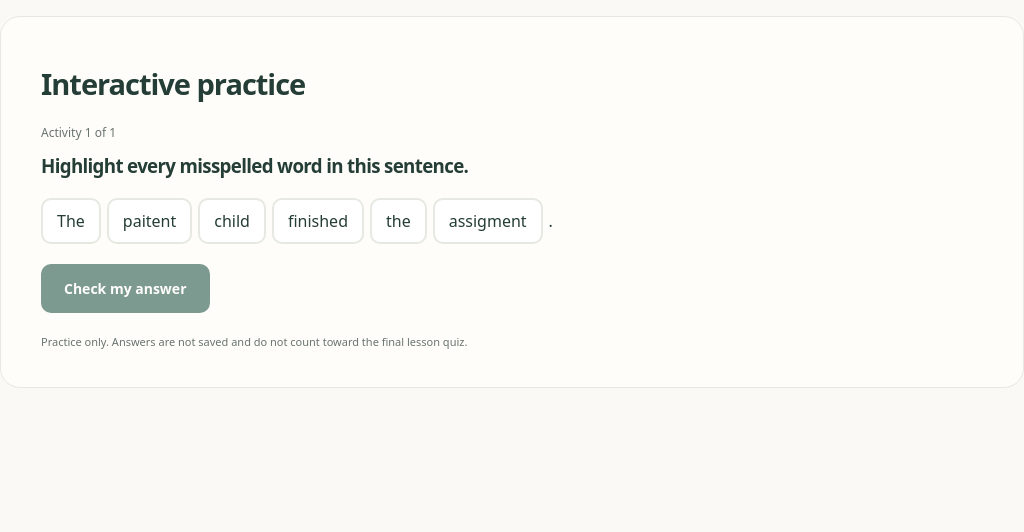
reusable interactive practice › highlights misspelled words, allows toggling, and explains wrong answers
The width and height of the screenshot is (1024, 532).
Step 1. Click the button "The" → x=71, y=221, box [41,198,101,244]
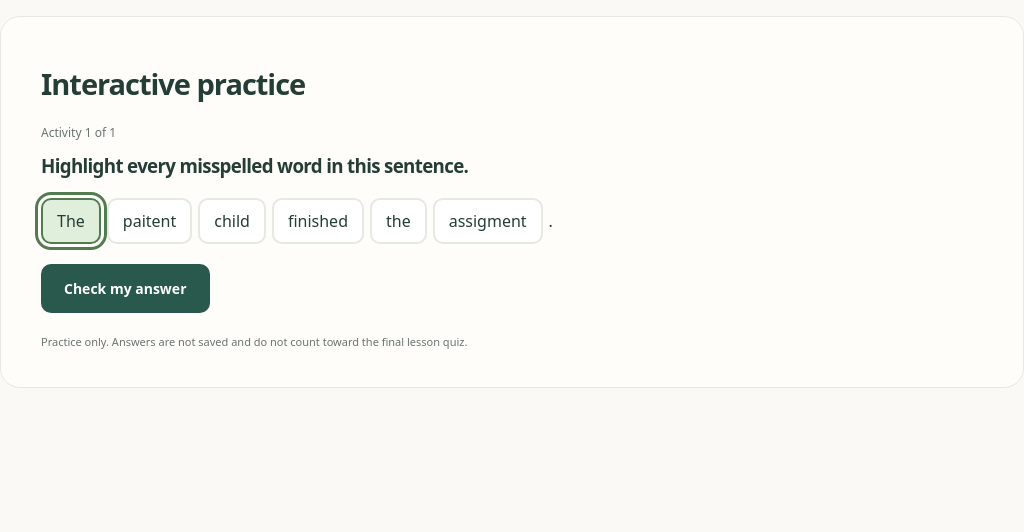
Step 2. Click the button "The" → x=71, y=221, box [41,198,101,244]
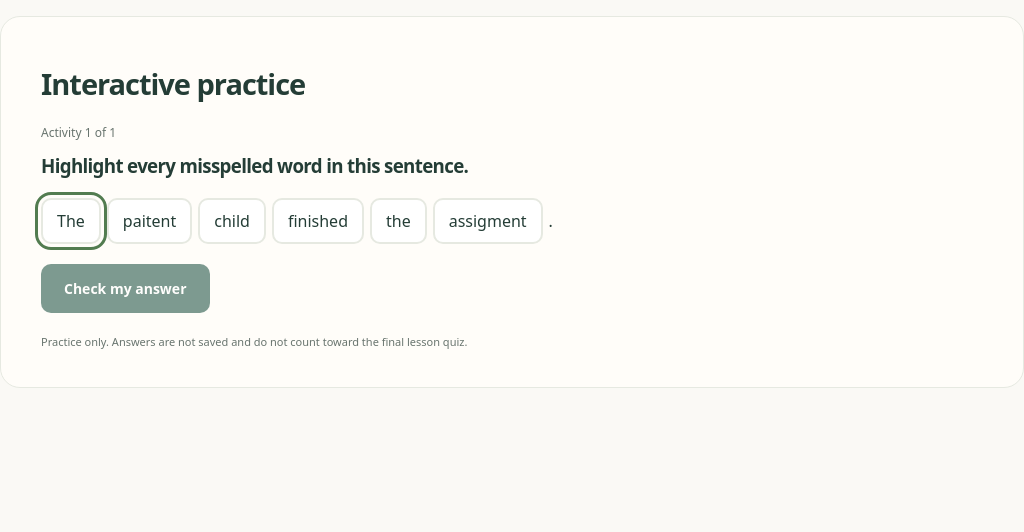
Expected: the button "The" is not pressed, [41,198,101,244]
Step 3. Click the button "paitent" → x=150, y=221, box [107,198,192,244]
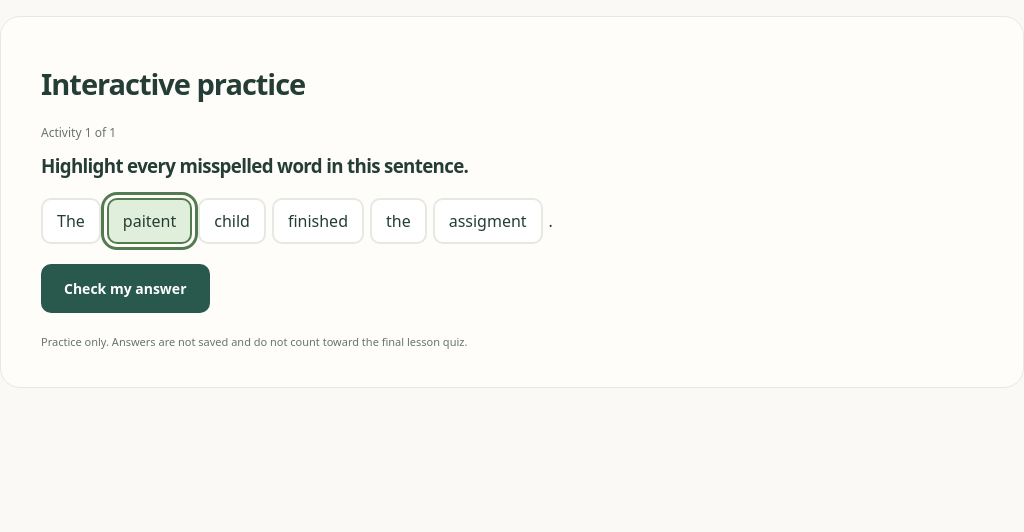
Step 4. Click the button "Check my answer" → x=125, y=289, box [41,264,210,313]
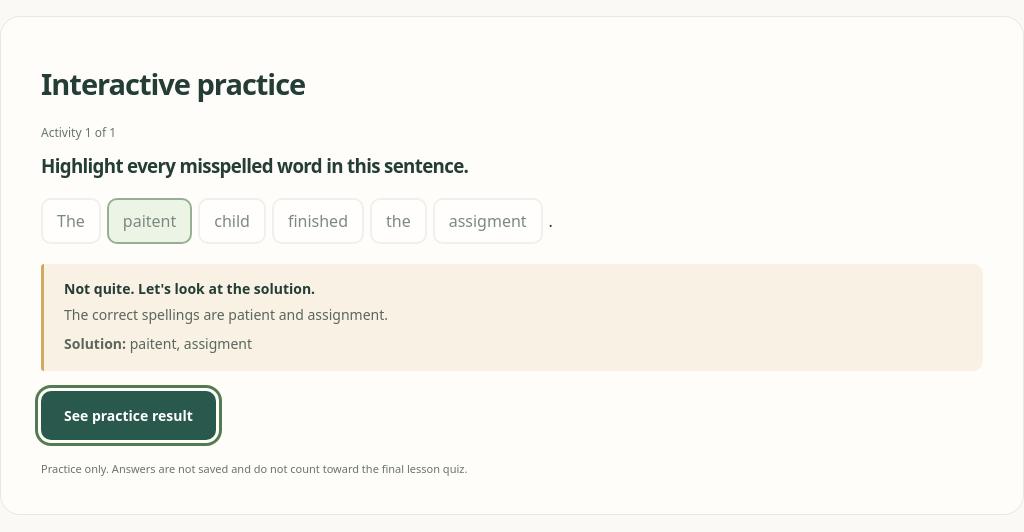
Expected: the text "Not quite. Let's look at the solution." is shown, [64,279,315,298]
Expected: the text "paitent, assigment" is shown, [130,334,252,353]
Expected: the button "assigment" is disabled, [433,198,543,244]
